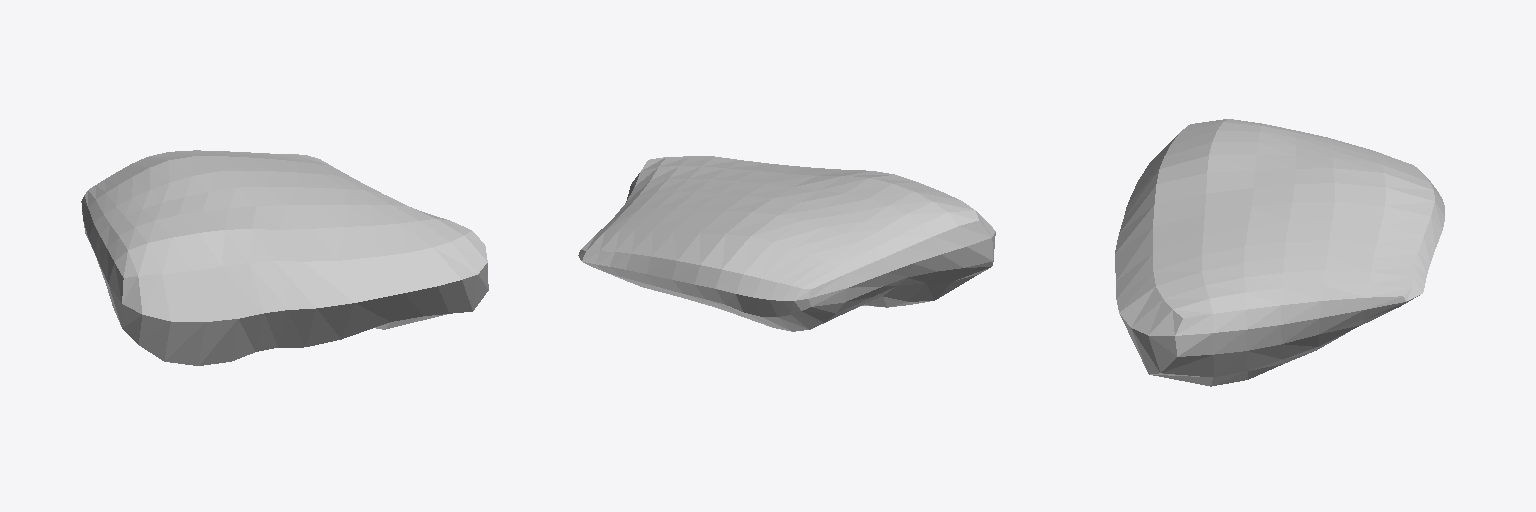
File: PM3D_rock031_005.OBJ
3 views of the same model, side by side, from view 1: azimuth 30°, elevation 25°; view 2: azimuth 150°, elevation 25°; view 3: azimuth 270°, elevation 25° (orthographic).
Parts seen in each view (by area): view 1: Group38692; view 2: Group38692; view 3: Group38692.
Part boxes in pixels (x1,y1,x2,y2): Group38692: (81,150,488,365); Group38692: (578,156,995,331); Group38692: (1115,119,1444,386).
Size of the model in its own units: 668 by 251 by 533.